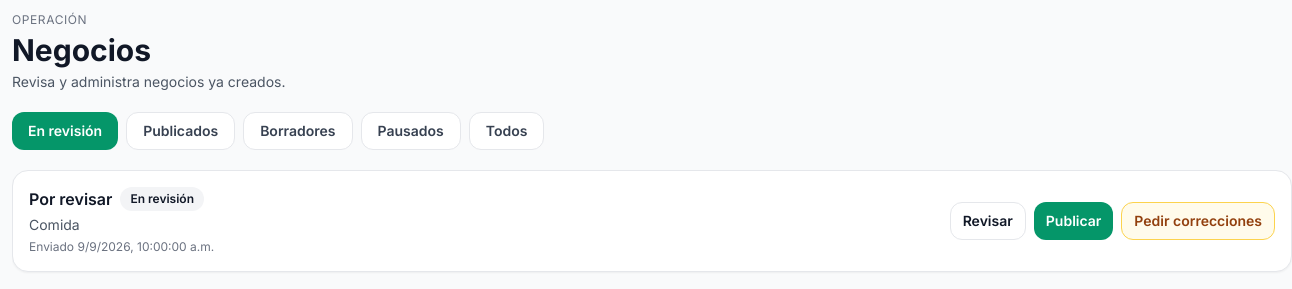
it: R5E-A admin operational boundaries › keeps published businesses administrable
Click the tab "Publicados".
click(181, 131)  # box [126,112,235,150]
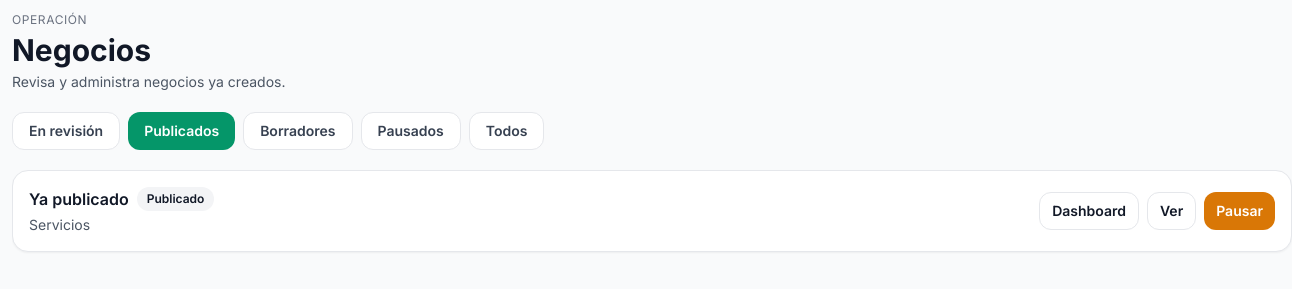
Check: the heading "Ya publicado" is shown, box [29,187,129,211]
Check: the link "Dashboard" is shown, box [1039,192,1139,230]
Check: the link "Ver" is shown, box [1147,192,1196,230]
